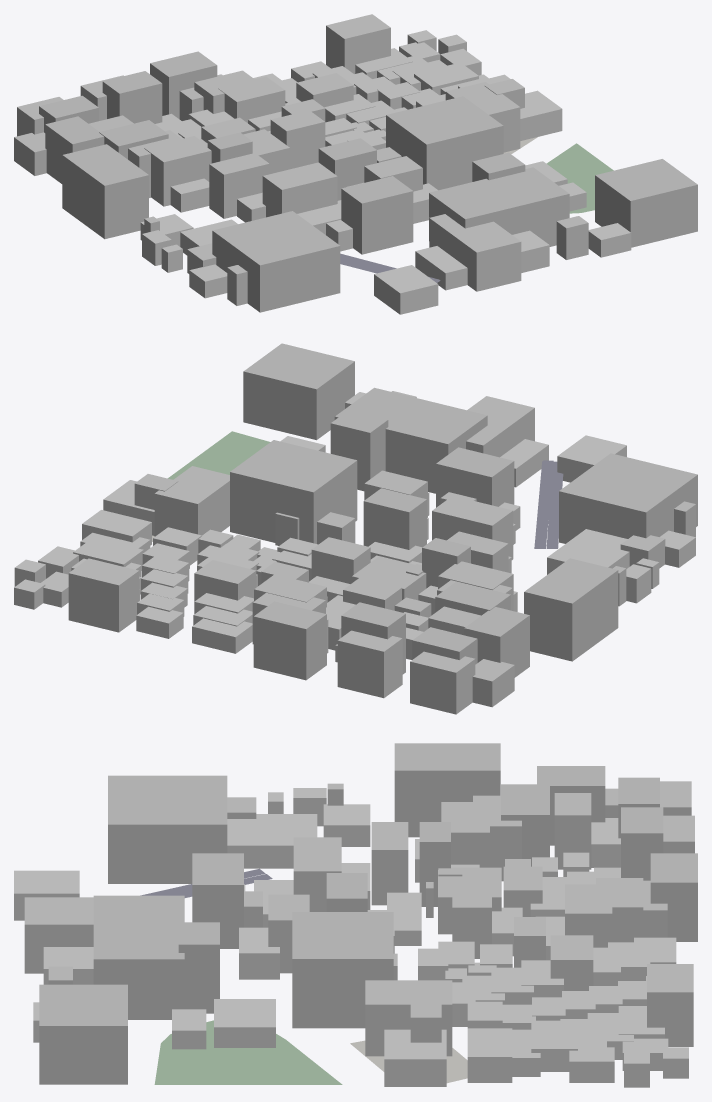
The model's file is 126_100_mid.glb.
3 views of the same model, one above another, from view 1: azimuth 30°, elevation 25°; view 2: azimuth 150°, elevation 25°; view 3: azimuth 270°, elevation 25° (orthographic). The views are drawn at different scales.
Bounding box in the file's own units: 516 × 61.37 × 537.
